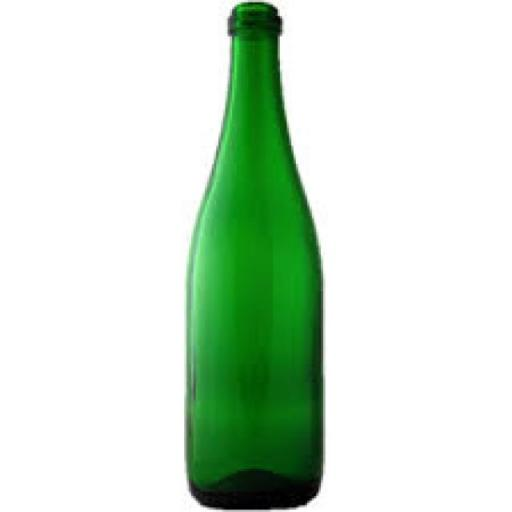glass: (161, 0, 342, 512)
